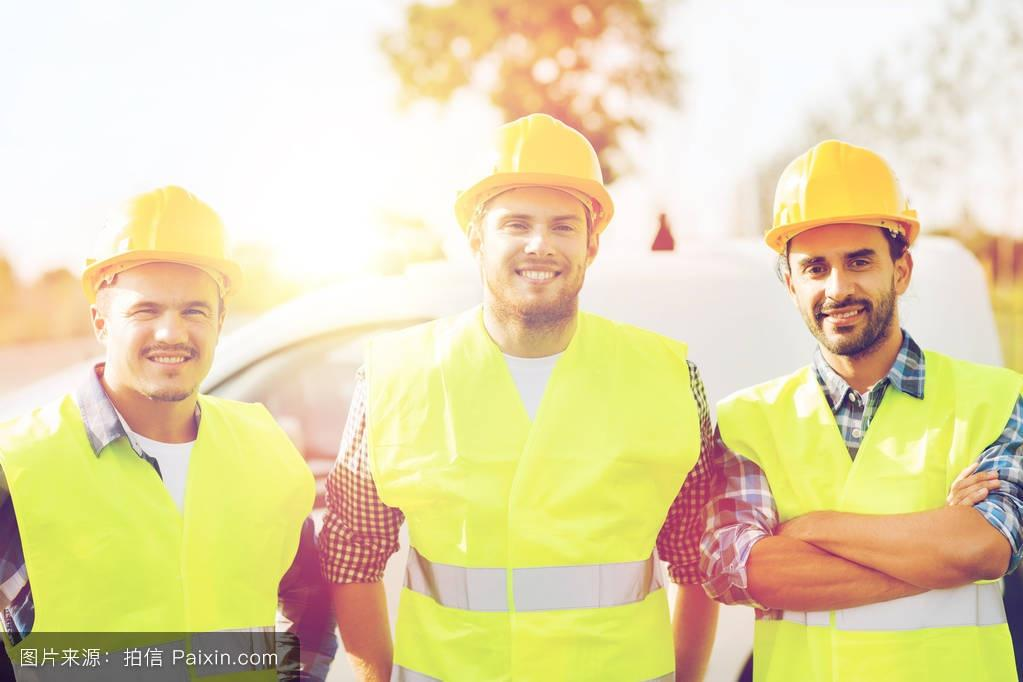Helmet: (85, 187, 241, 398), (768, 140, 922, 345), (463, 110, 614, 307)
Vest: (364, 319, 715, 682), (723, 359, 1023, 682)
